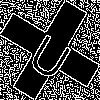U: (25, 25, 79, 83)
